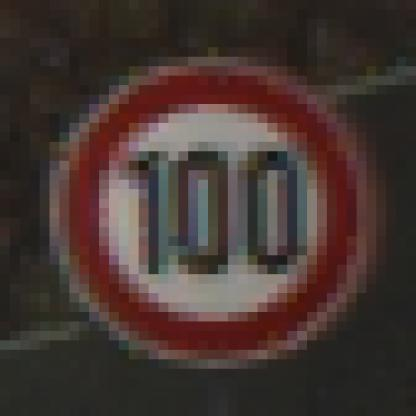Speed Limit 100: (58, 65, 367, 364)
